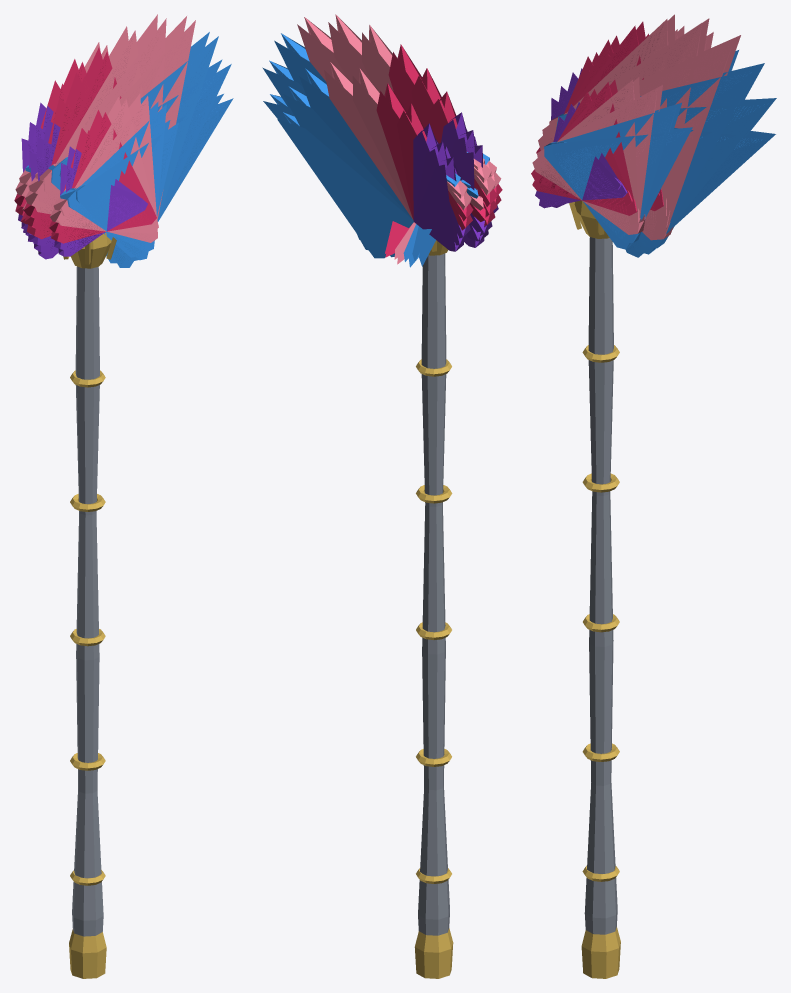
Rendered from staff_plume.glb.
3 renders of one model, left to right at view 1: azimuth 30°, elevation 25°; view 2: azimuth 150°, elevation 25°; view 3: azimuth 330°, elevation 25°, orthographic. The views are drawn at different scales.
Visible parts, largest first — view 1: Pl_Shaft, Pl_Feather0_9, Pl_Feather0_8, Pl_Feather2_7, Pl_Feather0_7, Pl_Feather2_5, Pl_Feather2_6, Pl_Feather2_4, Pl_Feather0_10, Pl_Feather0_6, Pl_Feather2_3, Pl_Butt (+11 smaller); view 2: Pl_Shaft, Pl_Feather1_9, Pl_Feather1_6, Pl_Feather1_7, Pl_Feather1_0, Pl_Feather1_8, Pl_Feather1_5, Pl_Feather1_4, Pl_Butt, Pl_Feather0_7, Pl_Feather0_6, Pl_Feather1_3 (+12 smaller); view 3: Pl_Shaft, Pl_Feather0_8, Pl_Feather0_9, Pl_Feather2_7, Pl_Feather0_7, Pl_Feather2_6, Pl_Feather2_5, Pl_Feather0_10, Pl_Feather2_4, Pl_Feather0_6, Pl_Feather0_11, Pl_Feather2_3 (+7 smaller).
Boxes of the visible parts, x1,y1,x2,y2 form: Pl_Shaft: (72, 266, 103, 936); Pl_Feather0_9: (48, 32, 218, 220); Pl_Feather0_8: (35, 16, 195, 220); Pl_Feather2_7: (70, 120, 178, 260); Pl_Feather0_7: (29, 14, 166, 206); Pl_Feather2_5: (53, 94, 157, 242); Pl_Feather2_6: (60, 101, 166, 252); Pl_Feather2_4: (50, 97, 158, 233); Pl_Feather0_10: (59, 59, 231, 261); Pl_Feather0_6: (25, 26, 142, 214); Pl_Feather2_3: (49, 110, 156, 235); Pl_Butt: (69, 929, 106, 978); Pl_Shaft: (418, 253, 449, 935); Pl_Feather1_9: (277, 112, 413, 258); Pl_Feather1_6: (324, 62, 467, 218); Pl_Feather1_7: (299, 68, 460, 239); Pl_Feather1_0: (413, 157, 463, 251); Pl_Feather1_8: (283, 86, 447, 249); Pl_Feather1_5: (352, 68, 471, 219); Pl_Feather1_4: (376, 83, 473, 221); Pl_Butt: (414, 928, 453, 978); Pl_Feather0_7: (328, 14, 491, 182); Pl_Feather0_6: (362, 25, 495, 195); Pl_Feather1_3: (397, 103, 472, 230); Pl_Shaft: (584, 237, 617, 934); Pl_Feather0_8: (549, 35, 740, 240); Pl_Feather0_9: (556, 63, 764, 248); Pl_Feather2_7: (552, 127, 692, 249); Pl_Feather0_7: (542, 18, 709, 231); Pl_Feather2_6: (544, 102, 681, 242); Pl_Feather2_5: (537, 85, 662, 234); Pl_Feather0_10: (632, 98, 776, 254); Pl_Feather2_4: (532, 77, 644, 225); Pl_Feather0_6: (538, 14, 674, 221); Pl_Feather0_11: (626, 128, 775, 257); Pl_Feather2_3: (531, 80, 637, 215).
Bounding box in the file's own units: 0.4659 × 1.93 × 0.2059.
